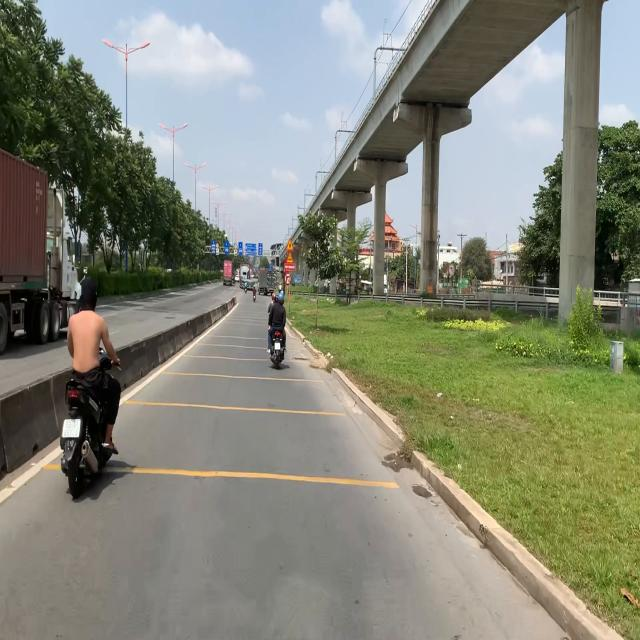Cam re phai: (284, 272, 292, 286)
Giao voi duong khong uu tien: (286, 238, 294, 250)
Nguy hiem: (286, 252, 294, 263)
